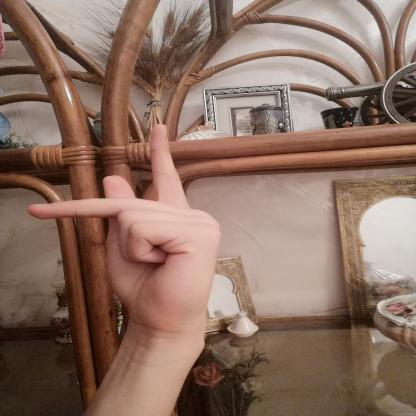DHAA: (14, 113, 235, 338)
